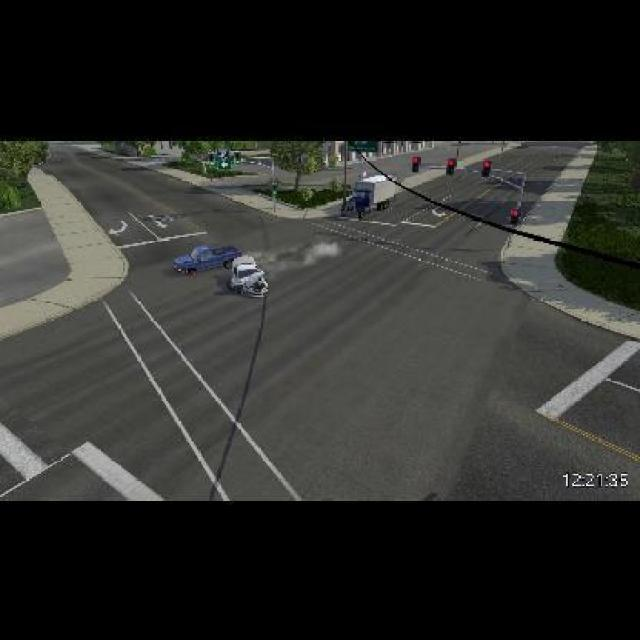accident: (169, 240, 274, 298)
